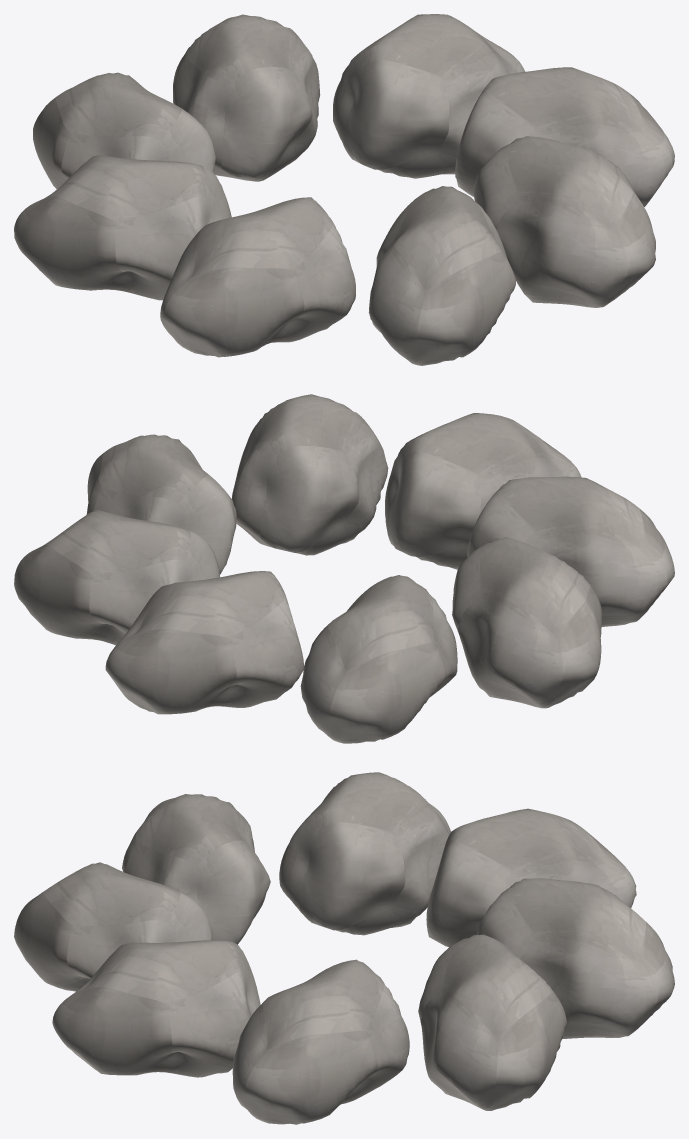
The model's file is Campfire.fbx.
3 views of the same model, one above another, from view 1: azimuth 30°, elevation 25°; view 2: azimuth 150°, elevation 25°; view 3: azimuth 270°, elevation 25° (orthographic). The views are drawn at different scales.
Visible parts, largest first — view 1: Cube_dmg; view 2: Cube_dmg; view 3: Cube_dmg.
Part boxes in pixels (bbox=[...]): Cube_dmg: bbox=[14, 14, 674, 365]; Cube_dmg: bbox=[14, 394, 674, 743]; Cube_dmg: bbox=[14, 772, 674, 1124].
Size of the model in its own units: 821 by 188 by 821.
Materials: 1 (1 with a texture image).
